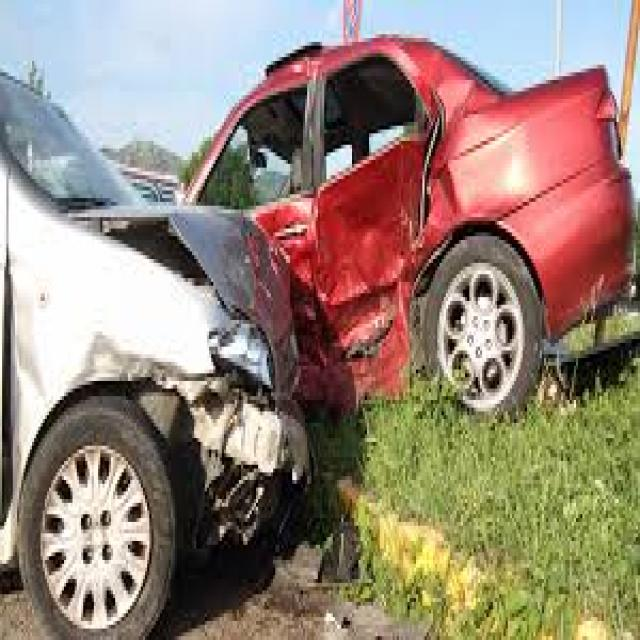accident: (48, 36, 580, 583)
